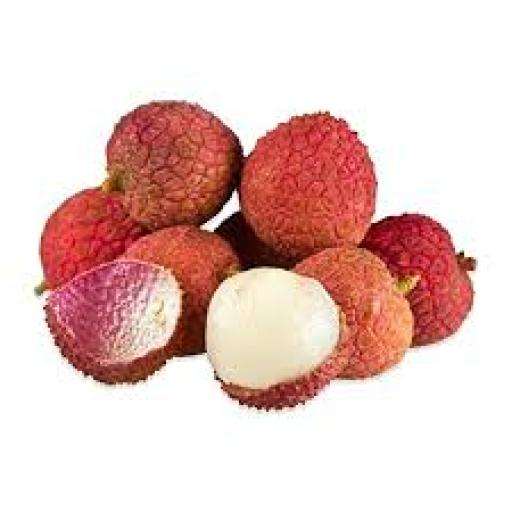lychee: (238, 114, 374, 261), (204, 269, 340, 409), (106, 101, 242, 229), (45, 260, 181, 384), (293, 246, 410, 377), (122, 226, 240, 354), (361, 214, 474, 345), (38, 189, 142, 288), (216, 212, 292, 268)
